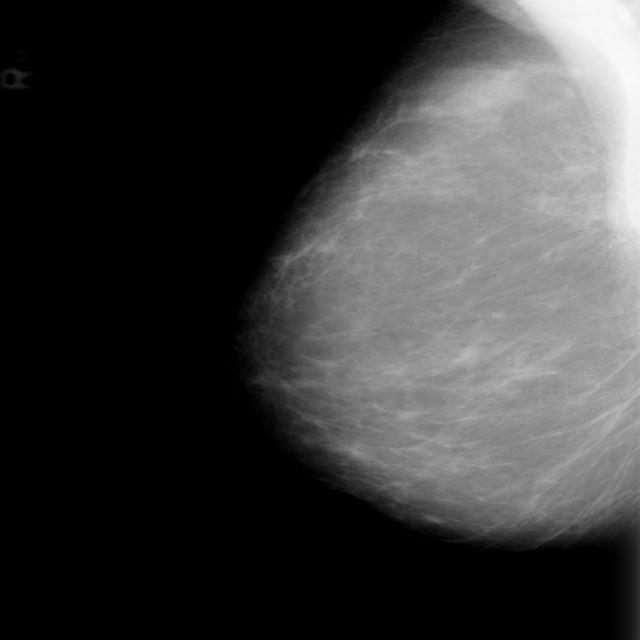normal: (210, 11, 640, 542)
